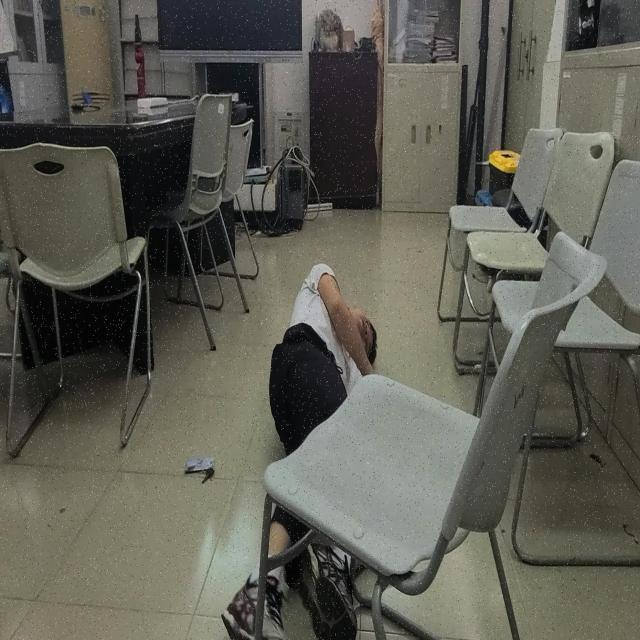fall: (215, 262, 388, 639)
